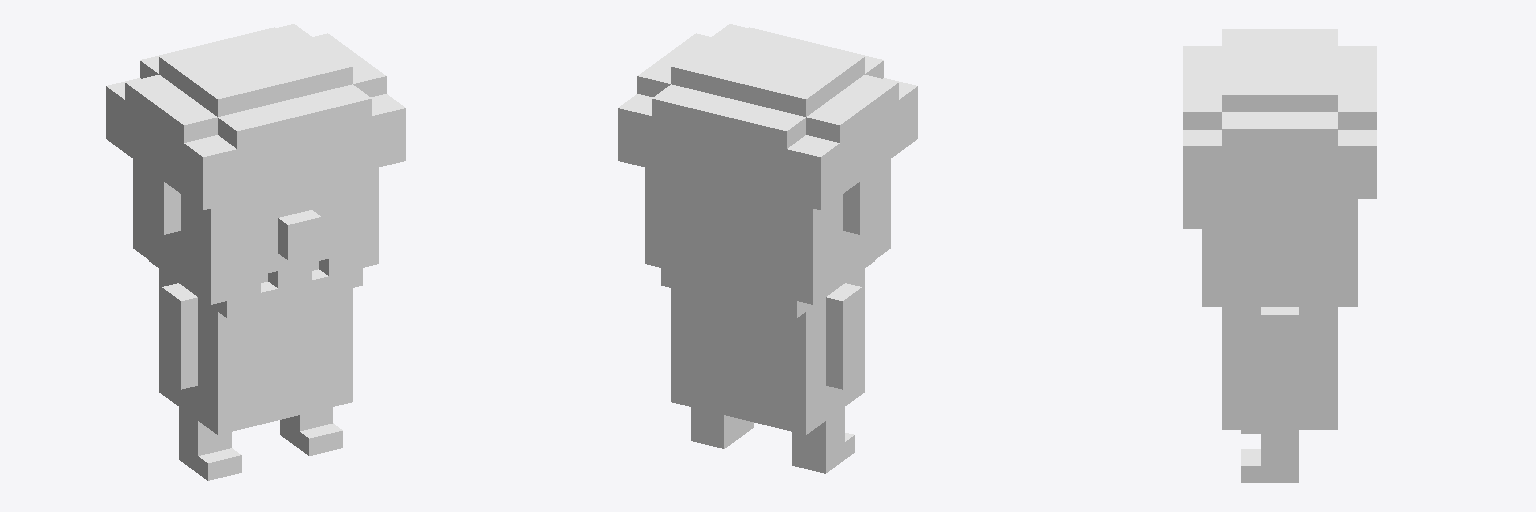
The model's file is prisoner.obj.
3 views of the same model, side by side, from view 1: azimuth 30°, elevation 25°; view 2: azimuth 150°, elevation 25°; view 3: azimuth 270°, elevation 25° (orthographic).
Parts seen in each view (by area): view 1: object 1; view 2: object 1; view 3: object 1.
Part boxes in pixels (x1,y1,x2,y2): object 1: (106,24,405,480); object 1: (618,24,917,473); object 1: (1183,29,1376,482).
Size of the model in its own units: 1.2 by 2.2 by 1.